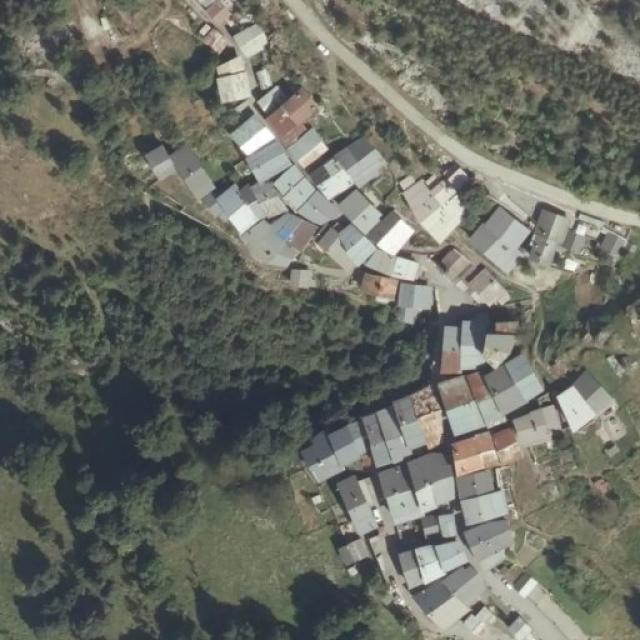maison: (313, 467, 512, 586), (274, 172, 428, 290), (408, 408, 574, 473), (372, 251, 506, 313), (525, 200, 627, 275), (386, 376, 490, 445), (435, 301, 526, 377), (388, 572, 510, 626), (462, 200, 530, 280), (318, 406, 405, 468), (401, 168, 472, 237), (553, 368, 617, 434), (483, 356, 548, 419), (148, 142, 214, 202), (334, 129, 388, 189), (208, 59, 274, 106), (288, 422, 334, 482), (269, 91, 321, 141), (206, 182, 260, 229), (220, 111, 273, 151), (245, 138, 289, 185), (225, 19, 273, 61), (288, 128, 332, 168)
